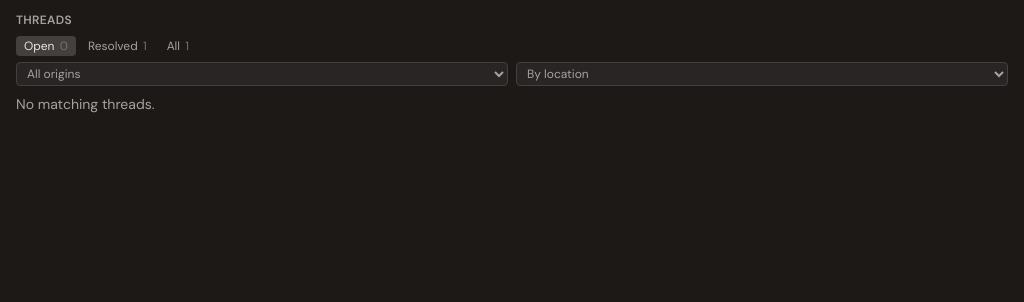
Test case: ThreadPanel › "Reopen" button appears on resolved threads
Click the button "Resolved 1".
click(117, 46)  # box [80, 36, 155, 56]
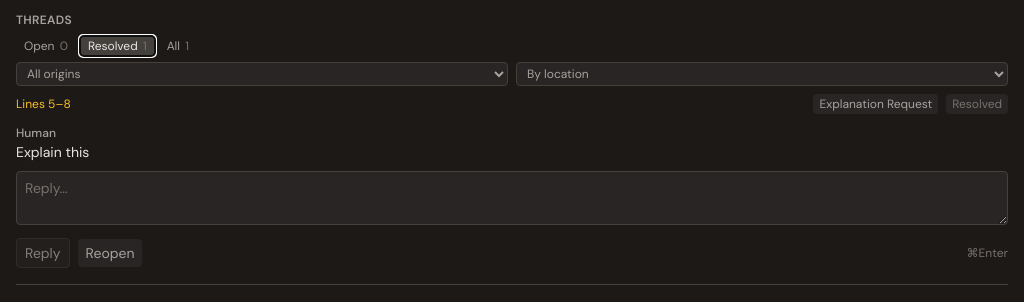
expect the button "Reopen" is shown: met, box [78, 239, 142, 267]
